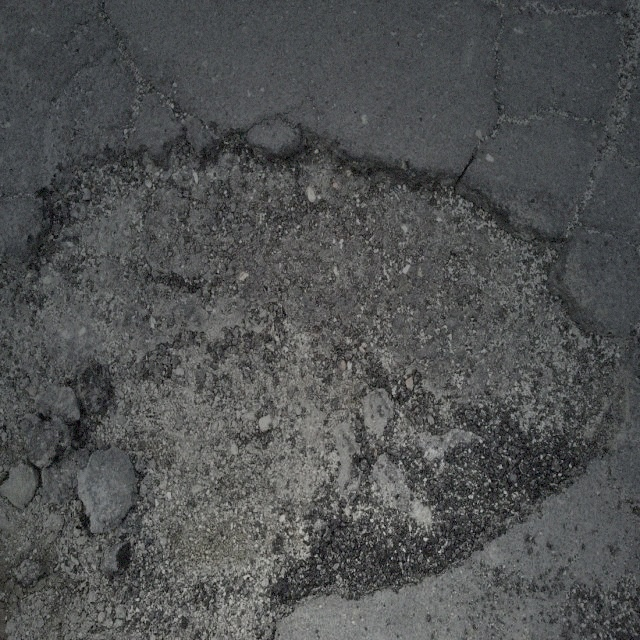pothole: (34, 125, 608, 608)
